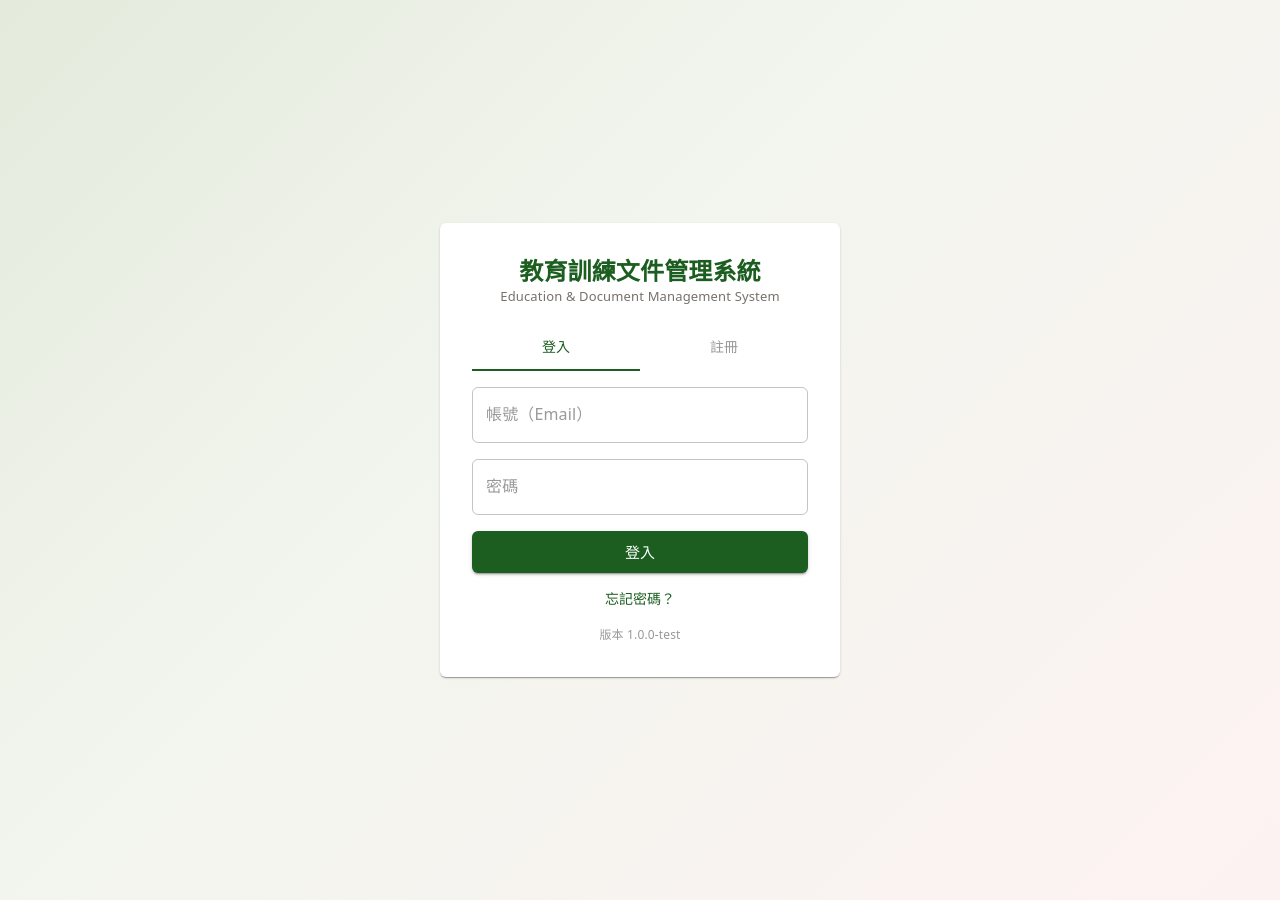
AppShell 統一導覽殼 › 點登出 → 清狀態、回登入頁
Type "u@edms.local" into the field labelled "帳號（Email）" at (640, 415), box [472,387,808,443]
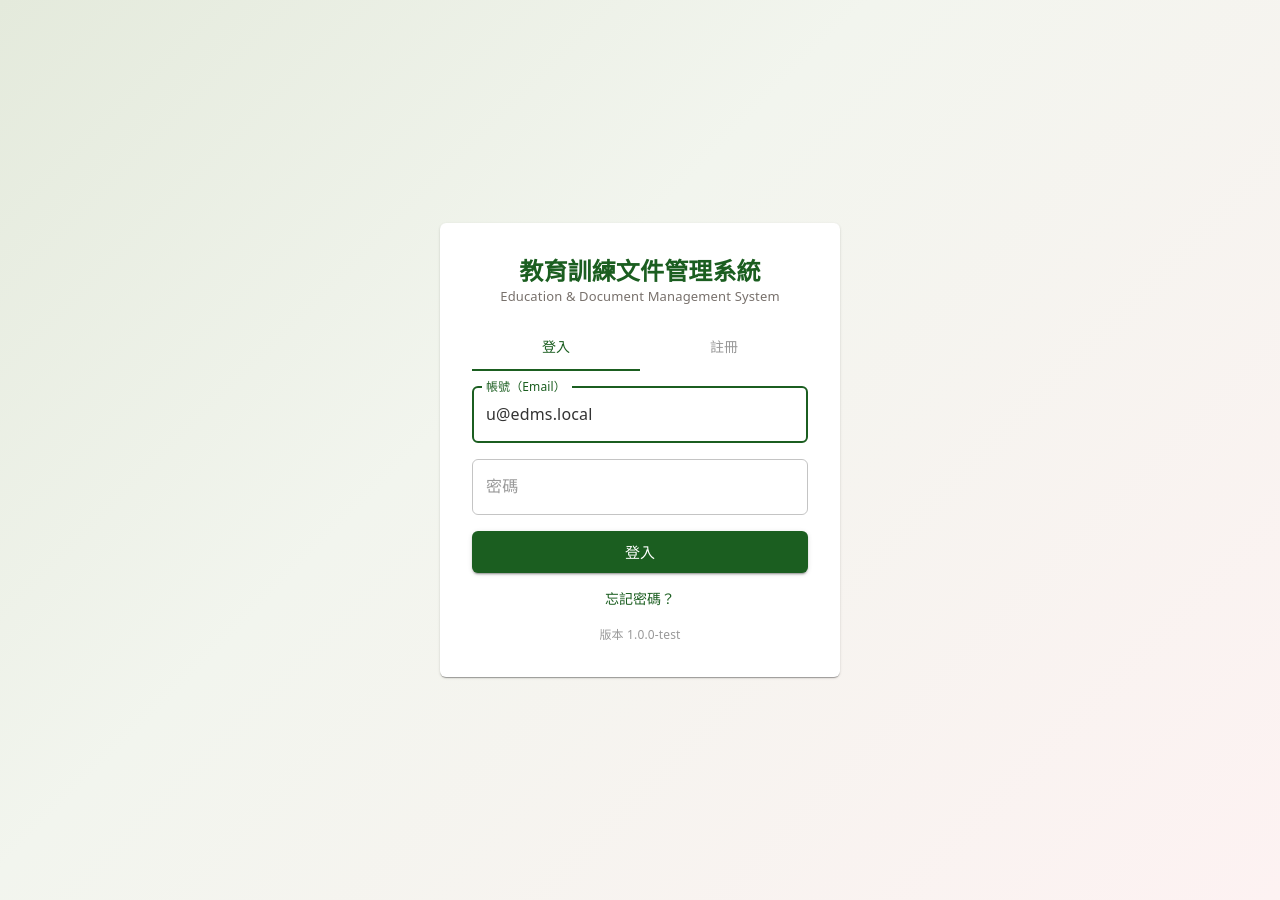
Type "Abcd1234" into the password field labelled "密碼" at (640, 487), box [472,459,808,515]
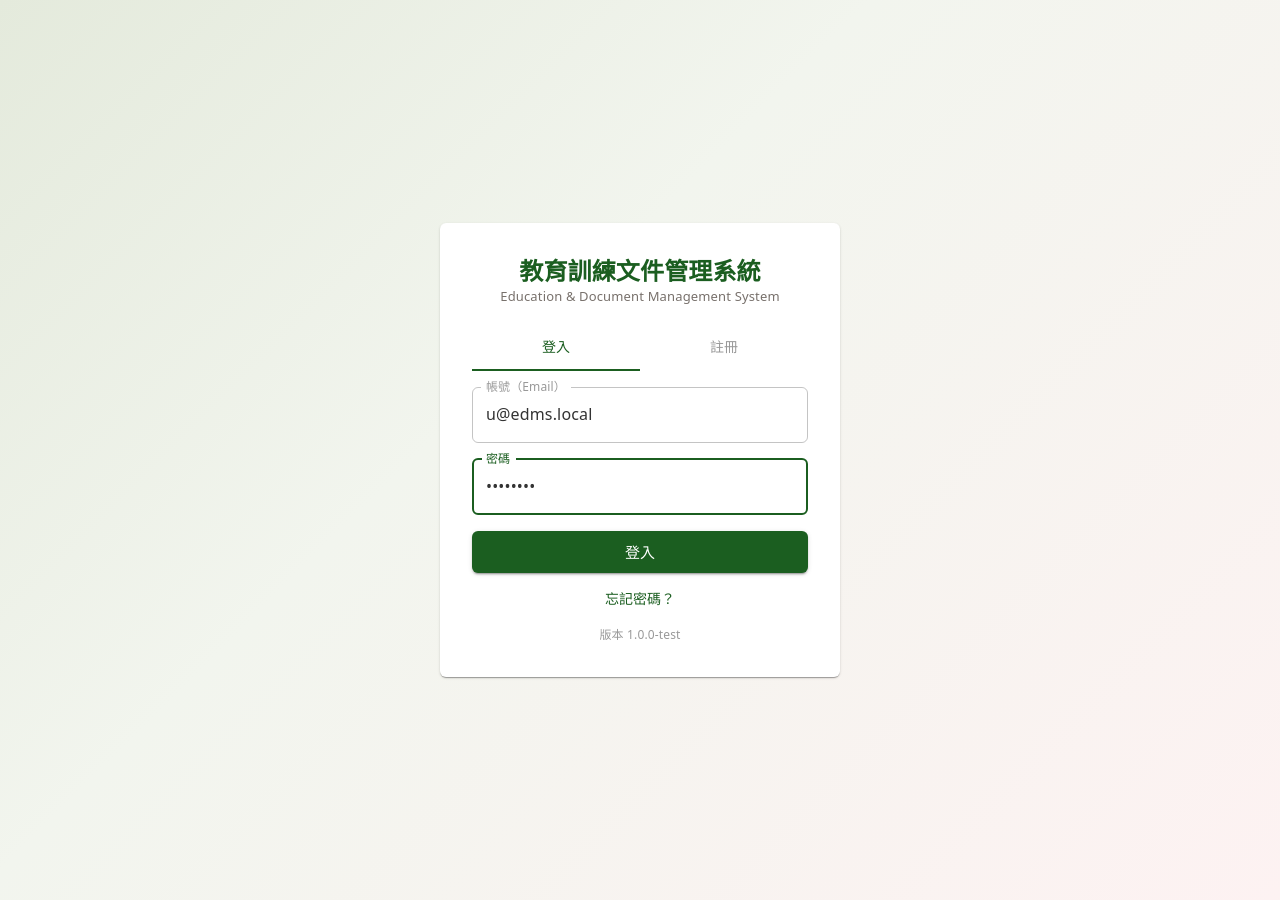
Click the button "登入" at (640, 552), box [472,531,808,573]
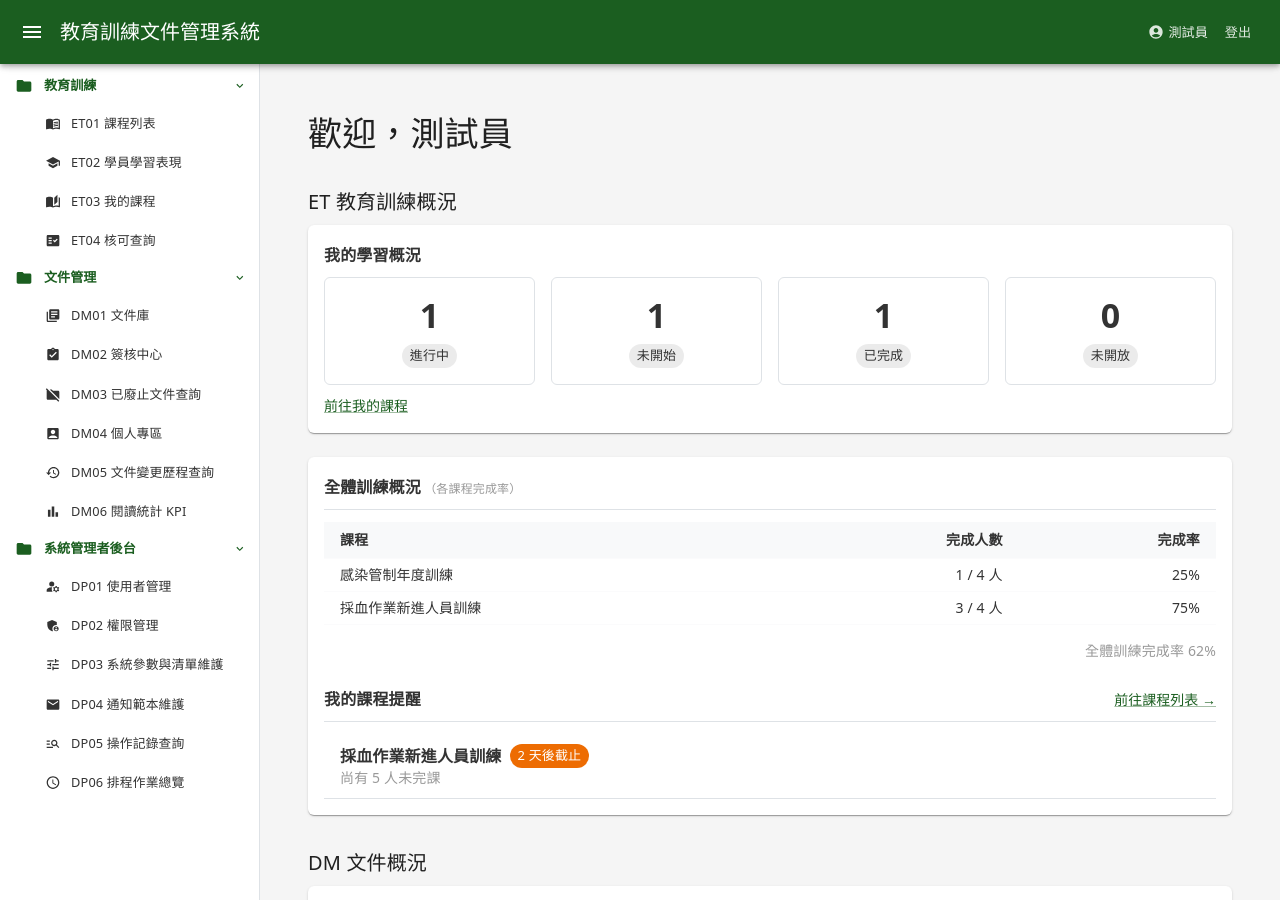
Expected: the text "教育訓練文件管理系統" is shown, [60,16,260,48]
Expected: the label labelled "帳號（Email）" is gone
Click the button "登出" at (1238, 32), box [1220,16,1256,48]
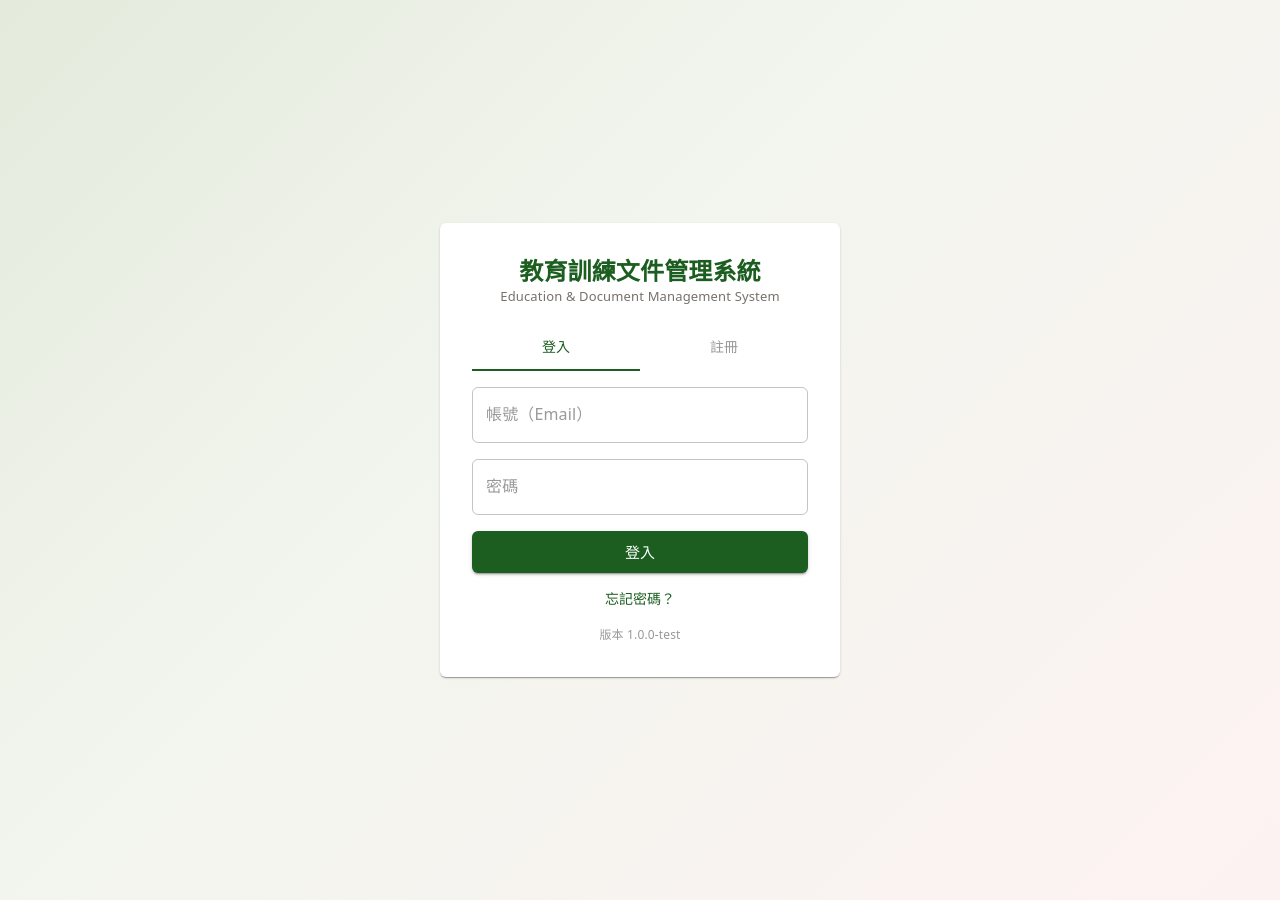
Expected: the field labelled "帳號（Email）" is shown, [472,387,808,443]
